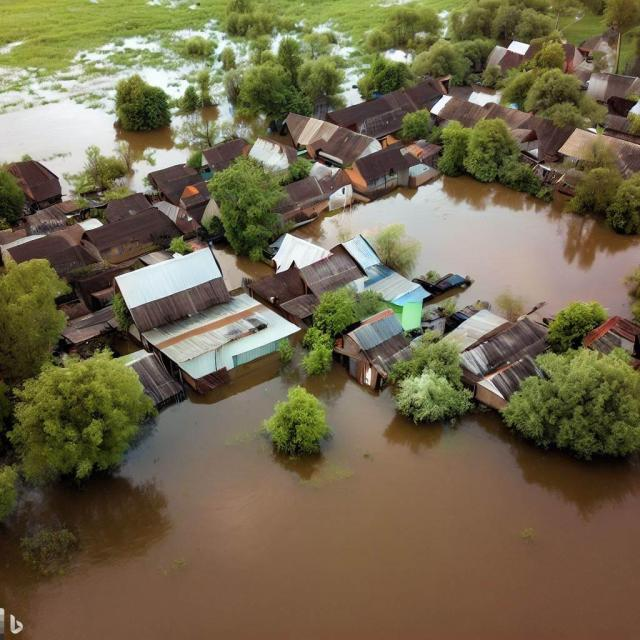flood: (0, 344, 640, 640), (294, 175, 640, 317), (0, 100, 188, 191), (0, 36, 205, 113), (211, 241, 276, 291)
house: (141, 293, 303, 387), (117, 245, 229, 345), (454, 312, 554, 408), (78, 192, 175, 267), (335, 306, 414, 393), (276, 109, 383, 172), (280, 232, 382, 297), (333, 80, 438, 138), (1, 226, 87, 284), (559, 124, 640, 174), (8, 156, 70, 218), (366, 275, 426, 336), (268, 175, 332, 228), (429, 84, 498, 132), (350, 147, 410, 198), (146, 160, 208, 208), (582, 312, 640, 350), (604, 70, 640, 114)
